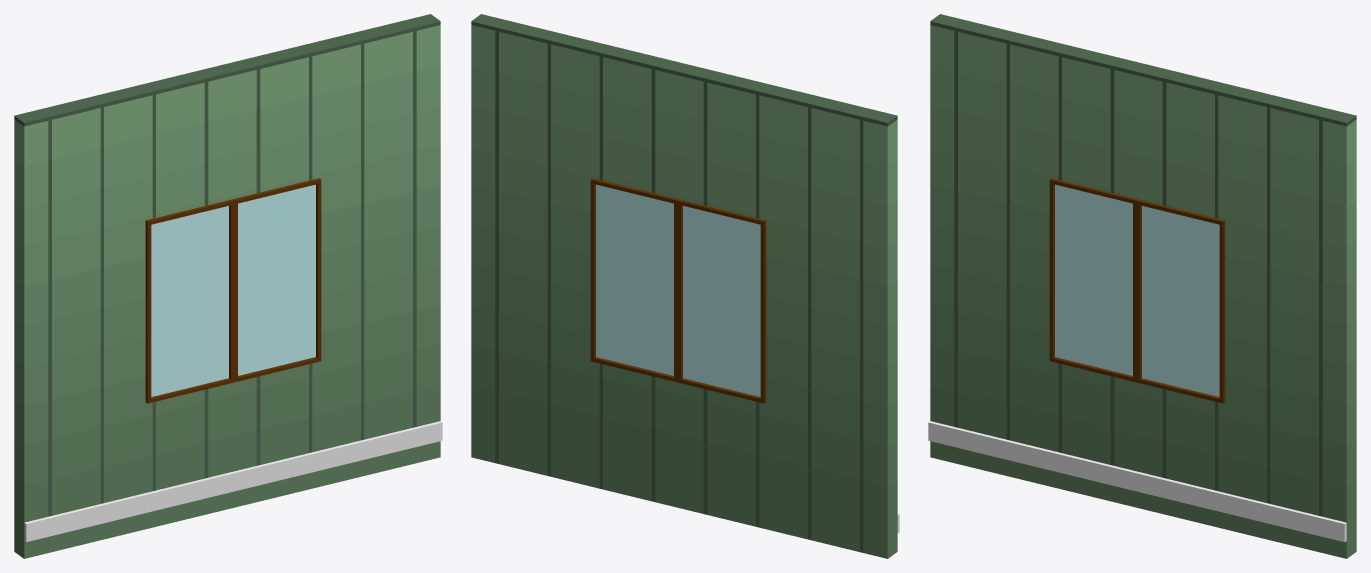
Rendered from wall13.obj.
3 views of the same model, side by side, from view 1: azimuth 30°, elevation 25°; view 2: azimuth 150°, elevation 25°; view 3: azimuth 330°, elevation 25° (orthographic).
Size of the model in its own units: 12 by 12 by 0.7.
Materials: 1 (1 with a texture image).
